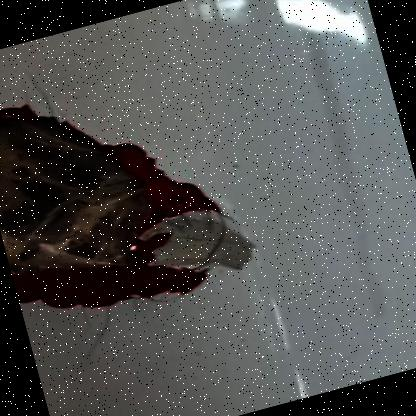Crack: (0, 22, 284, 388)
